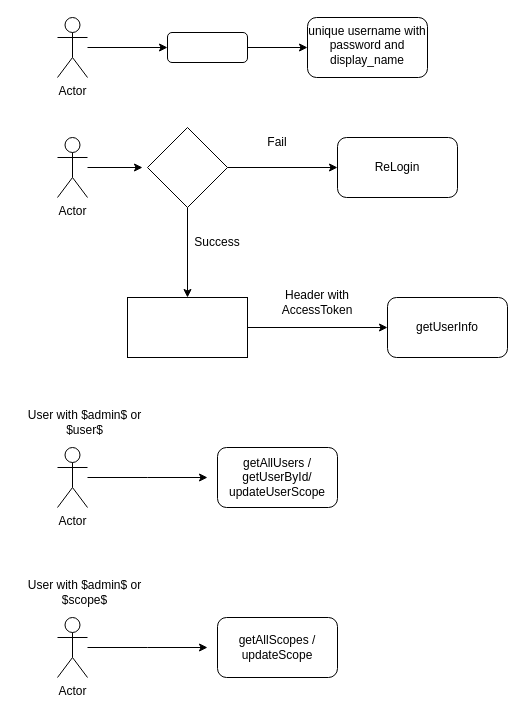
The diagram is 525 pixels wide and 716 high, and some of its shapes have lost their labels. The shapes that lost their labels are listed below. From the top down, each one's box as (x1, y1, x2, y2) in pixels, then its label:
(166, 32, 248, 62): Registry
(146, 126, 228, 208): Login
(126, 296, 248, 358): store access_token
